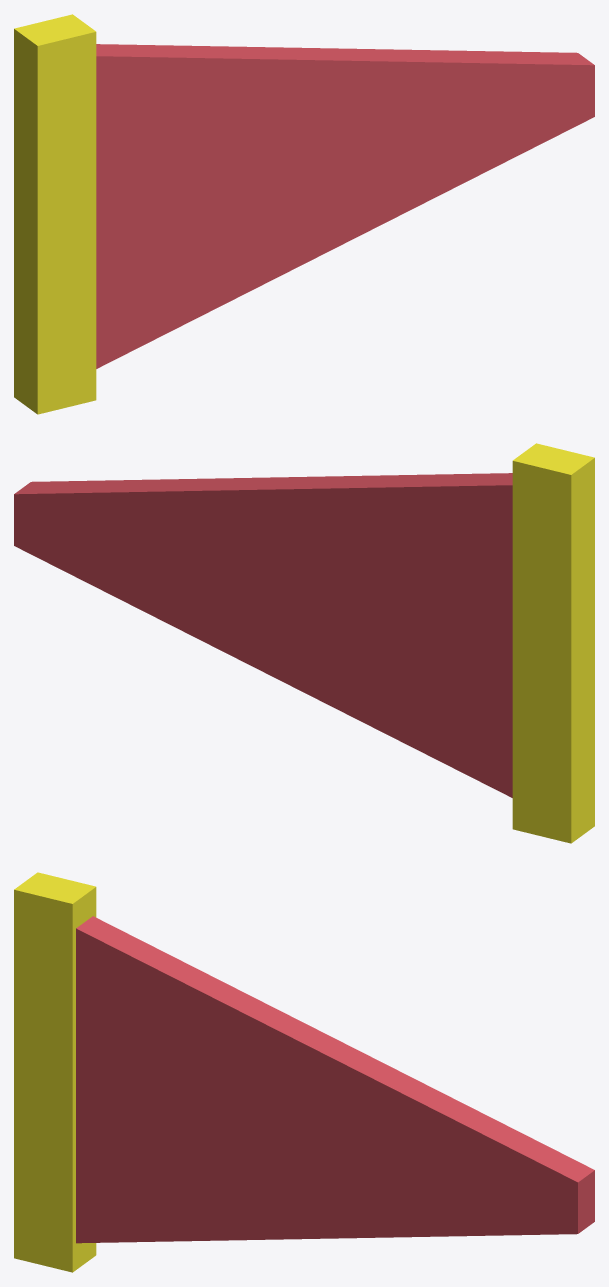
The model's file is pennant.glb.
3 views of the same model, one above another, from view 1: azimuth 30°, elevation 25°; view 2: azimuth 150°, elevation 25°; view 3: azimuth 330°, elevation 25° (orthographic).
Parts seen in each view (by area): view 1: Pennant; view 2: Pennant; view 3: Pennant.
Boxes of the visible parts, x1,y1,x2,y2 form: Pennant: (14, 14, 594, 414); Pennant: (14, 443, 594, 843); Pennant: (14, 872, 594, 1272).
Size of the model in its own units: 0.955 by 0.6 by 0.07.
